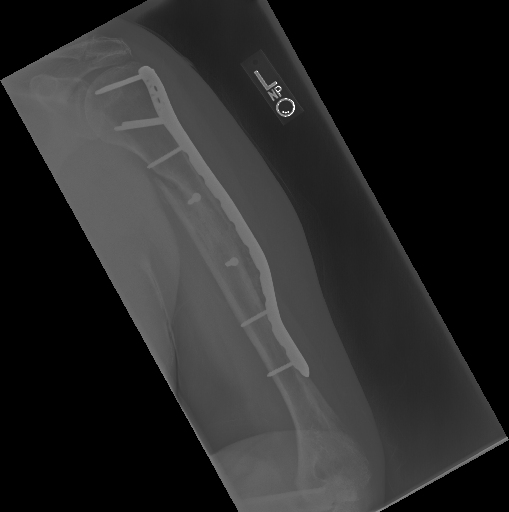implant: (94, 63, 192, 180), (229, 255, 311, 384)
